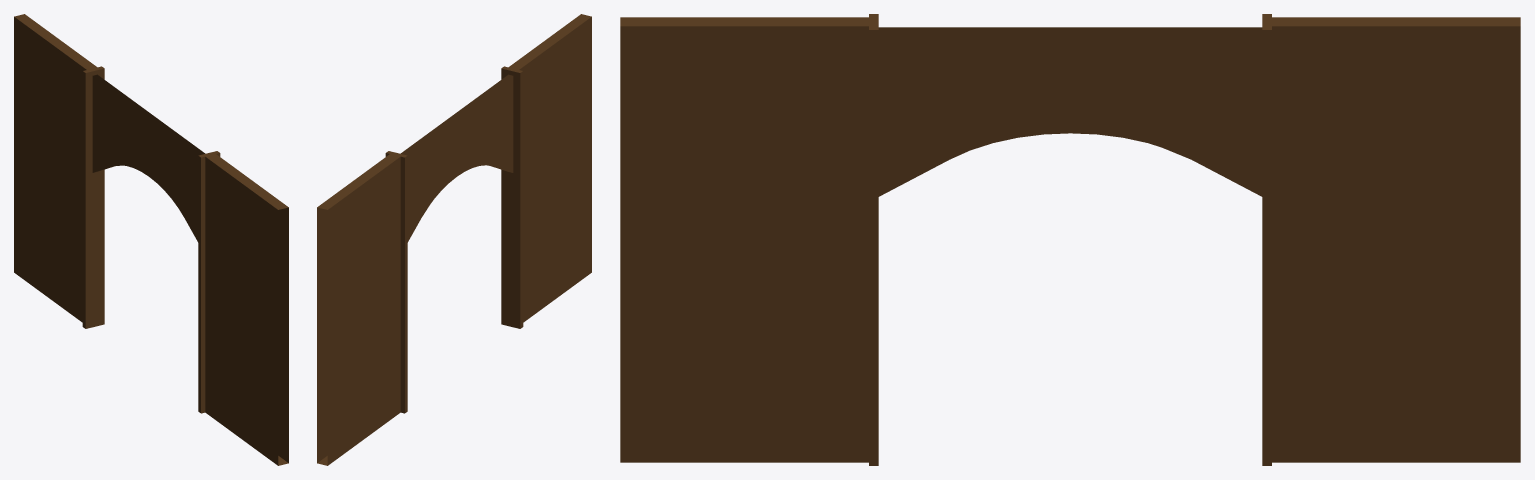
Rendered from BS_doorframesaloon.fbx.
The picture shows the model from 3 angles, left to right: view 1: azimuth 30°, elevation 25°; view 2: azimuth 150°, elevation 25°; view 3: azimuth 270°, elevation 25°; orthographic projection. The views are drawn at different scales.
Parts seen in each view (by area): view 1: Cube.171; view 2: Cube.171; view 3: Cube.171.
Part boxes in pixels (x1,y1,x2,y2): Cube.171: [14, 14, 288, 465]; Cube.171: [317, 14, 591, 465]; Cube.171: [620, 14, 1520, 465].
Bounding box in the file's own units: 0.3016 × 3.87 × 7.24.
